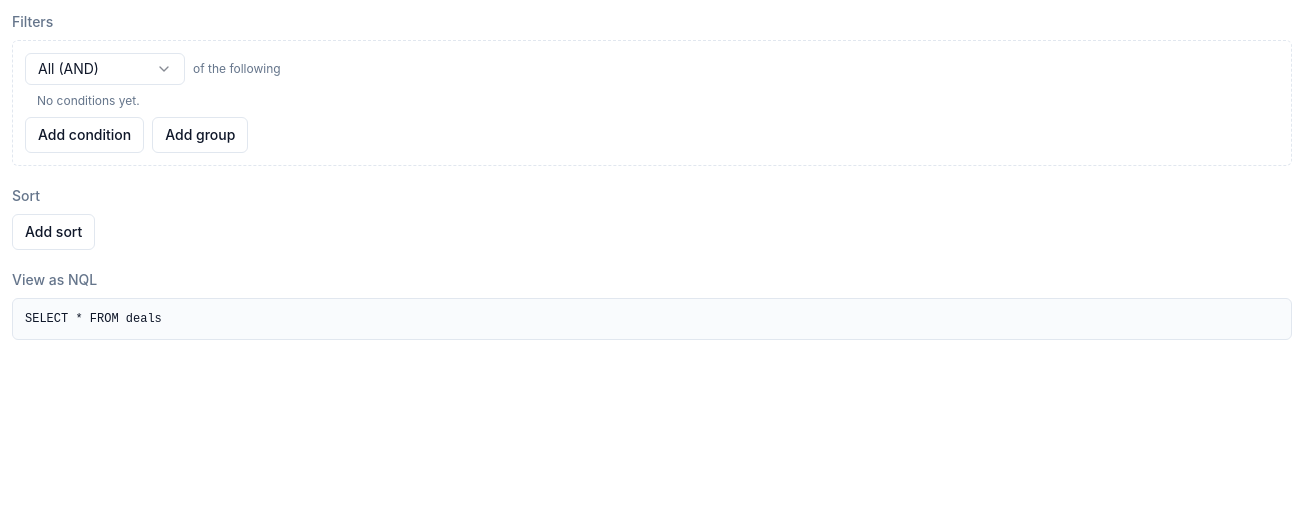
Test case: QueryBuilder › hides the value input for a nullary operator
Click the button "Add condition": (85, 135) [25, 117, 144, 153]
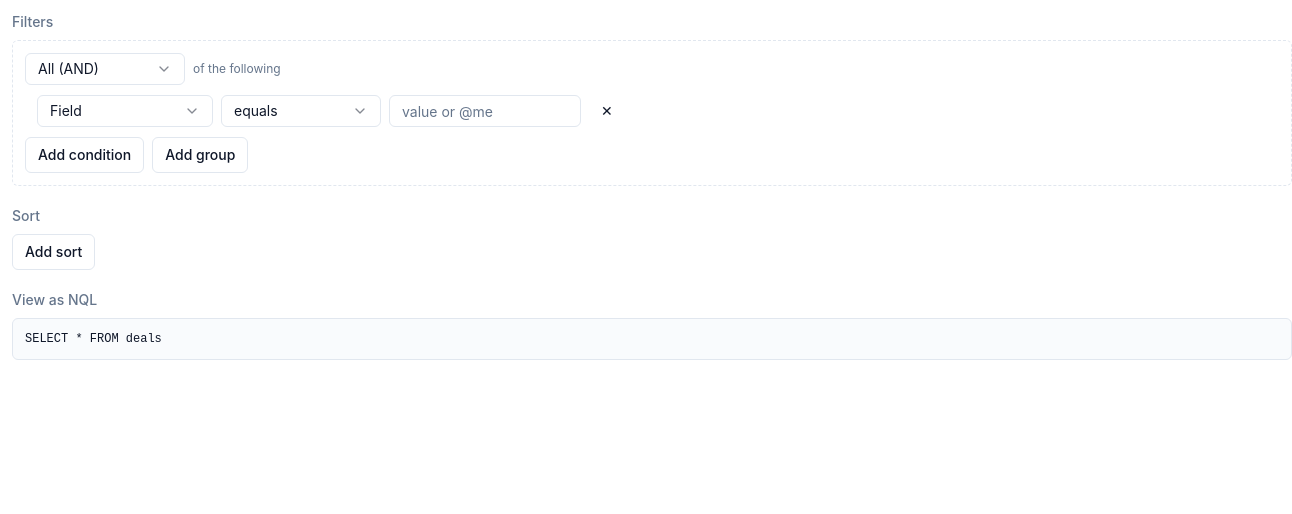
Click the dropdown labelled "Field": (125, 111) [37, 95, 213, 127]
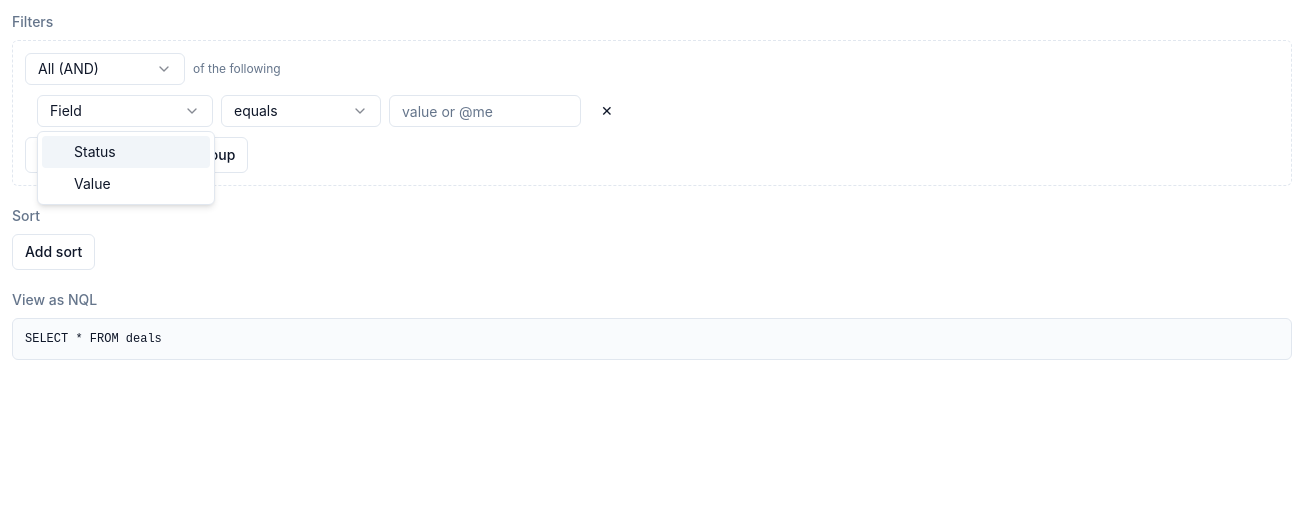
Click the option "Status": (126, 152) [42, 136, 210, 168]
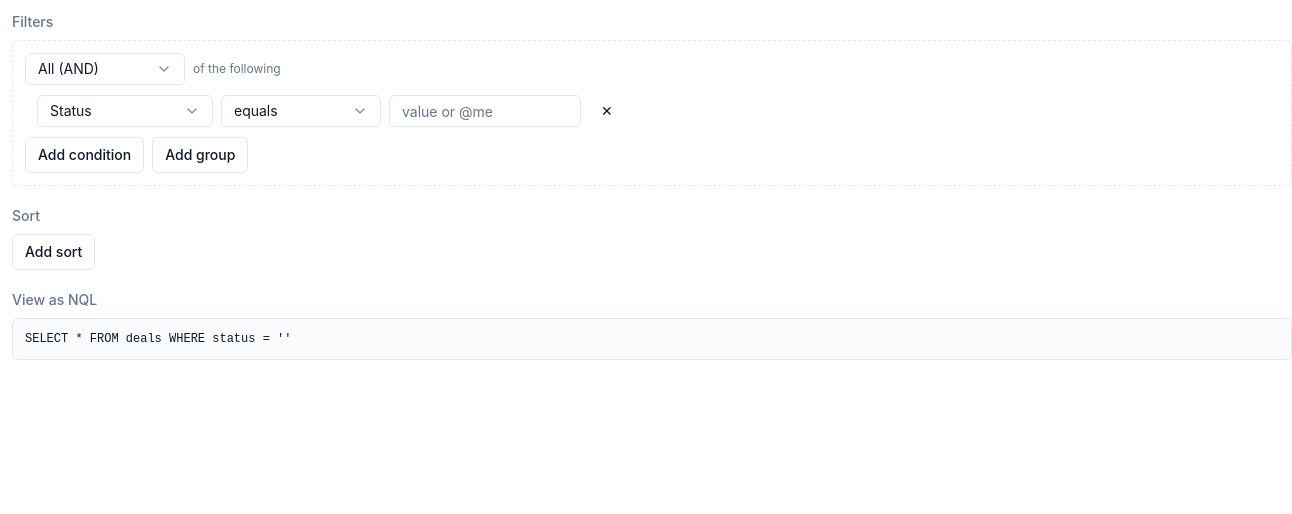
Click the dropdown named "Operator": (301, 111) [221, 95, 381, 127]
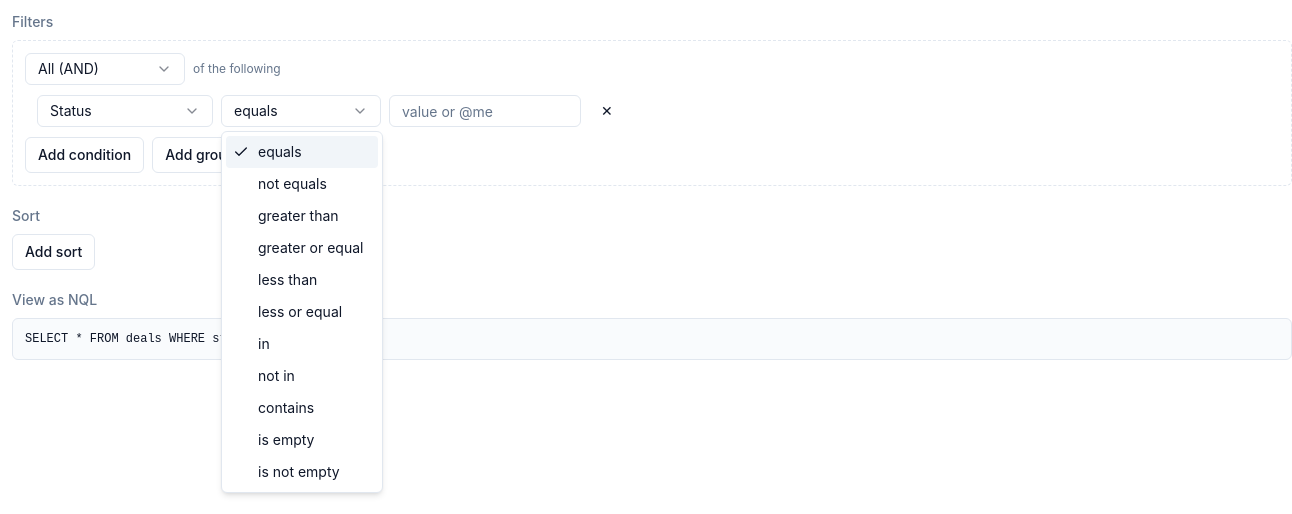
Click the option "is empty": (286, 440) [258, 431, 314, 448]
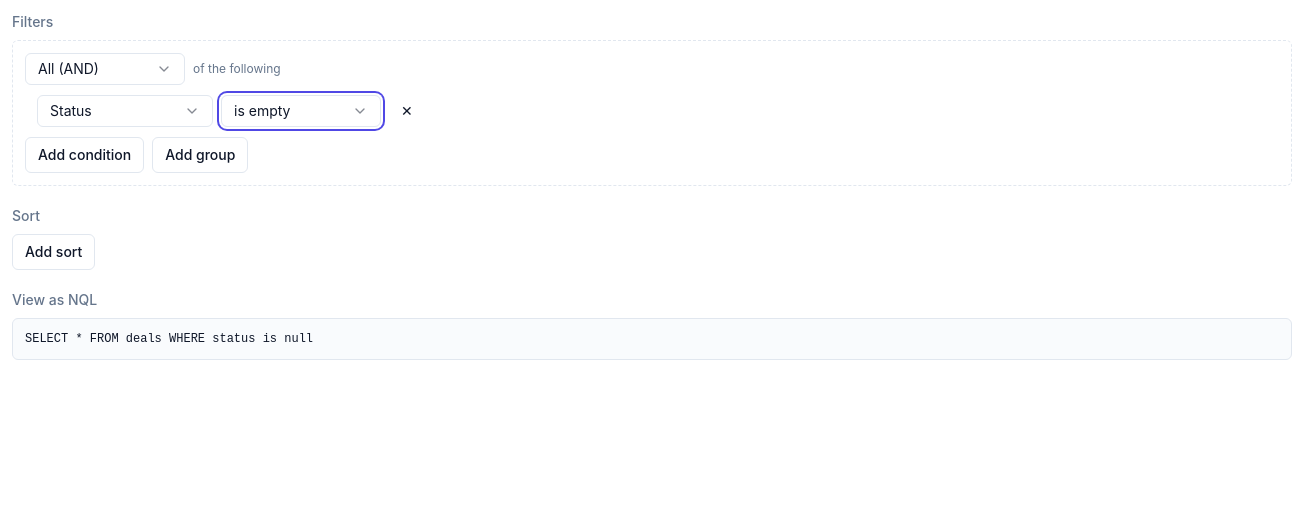
Expected: the field labelled "Value" is gone
Expected: the text named "NQL preview" reads "SELECT * FROM deals WHERE status is null", [25, 332, 313, 346]
